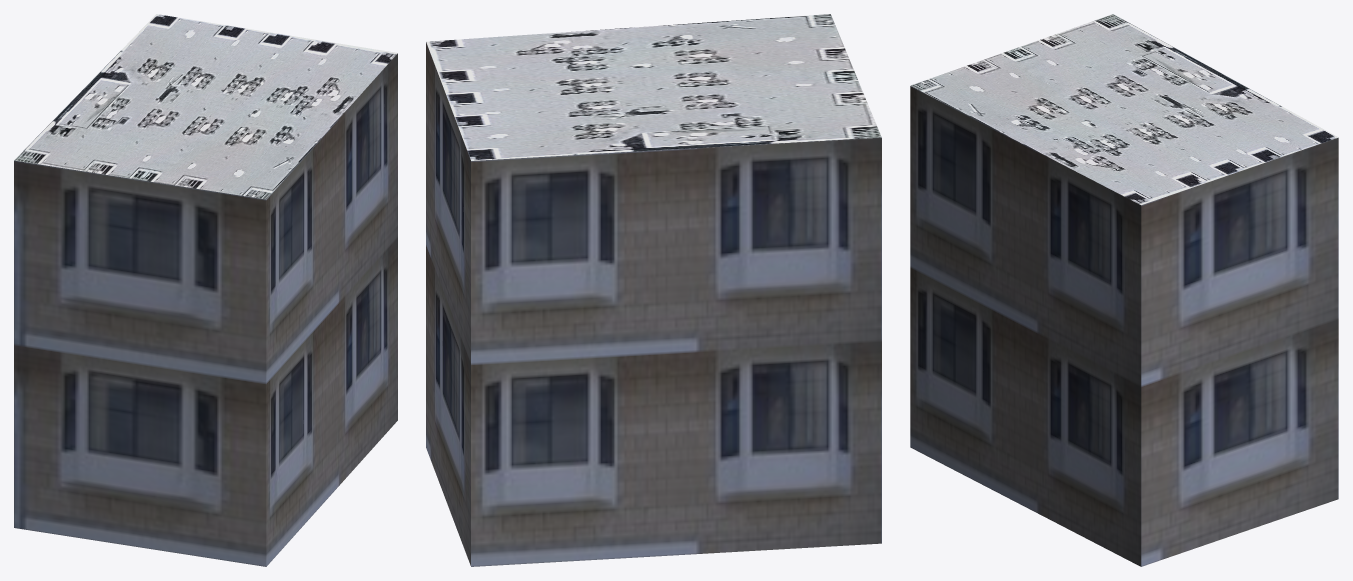
File: ResTex__4.fbx
The picture shows the model from 3 angles, left to right: view 1: azimuth 30°, elevation 25°; view 2: azimuth 150°, elevation 25°; view 3: azimuth 270°, elevation 25°; orthographic projection. The views are drawn at different scales.
Visible parts, largest first — view 1: CityEngineMaterial_3_m, CityEngineMaterial_4_m; view 2: CityEngineMaterial_3_m, CityEngineMaterial_4_m; view 3: CityEngineMaterial_3_m, CityEngineMaterial_4_m.
Part boxes in pixels (<box>): CityEngineMaterial_3_m: <box>14,53,397,566</box>; CityEngineMaterial_4_m: <box>14,14,397,199</box>; CityEngineMaterial_3_m: <box>426,42,881,566</box>; CityEngineMaterial_4_m: <box>426,14,881,160</box>; CityEngineMaterial_3_m: <box>910,86,1338,566</box>; CityEngineMaterial_4_m: <box>910,14,1338,205</box>.
Bounding box in the file's own units: 6.81 × 6 × 6.44.
2 materials, 2 textured.
